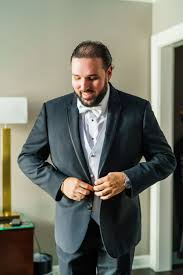F_M_suit jacket: (13, 83, 178, 263)
